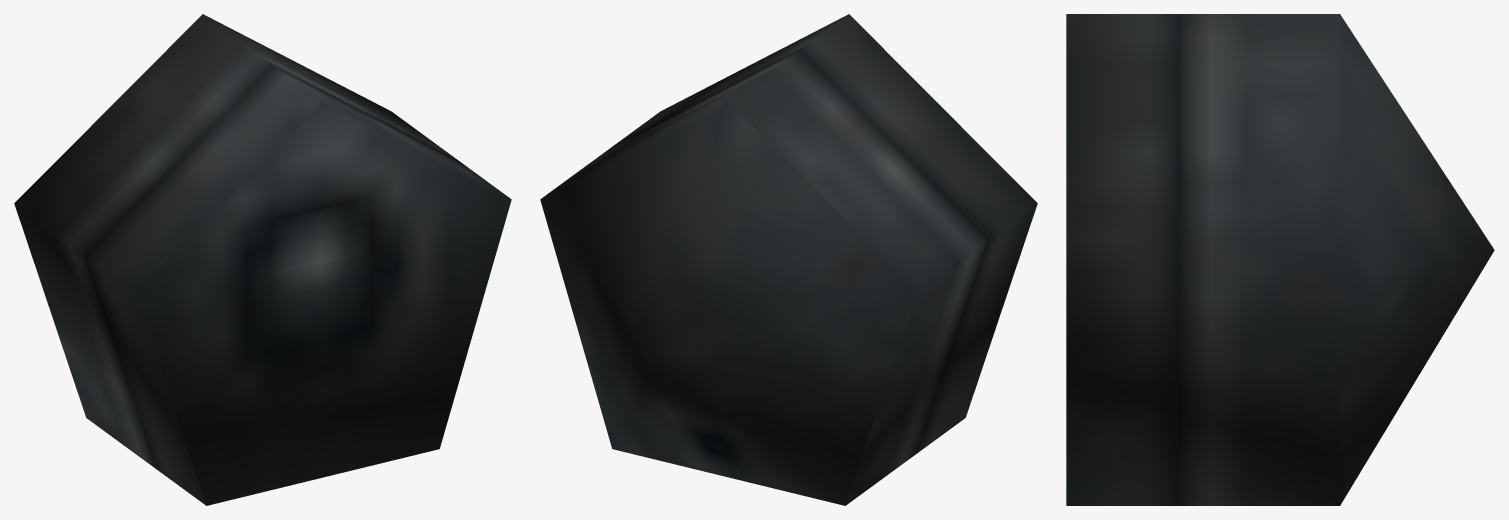
Rendered from computer-webcam.glb.
3 views of the same model, side by side, from view 1: azimuth 30°, elevation 25°; view 2: azimuth 150°, elevation 25°; view 3: azimuth 270°, elevation 25° (orthographic). The views are drawn at different scales.
Parts seen in each view (by area): view 1: Cube.006; view 2: Cube.006; view 3: Cube.006.
Boxes of the visible parts, bbox=[...] form: Cube.006: bbox=[14, 14, 511, 505]; Cube.006: bbox=[540, 14, 1037, 505]; Cube.006: bbox=[1066, 14, 1494, 505].
Size of the model in its own units: 0.0903 by 0.0859 by 0.078.
1 material, 1 textured.
